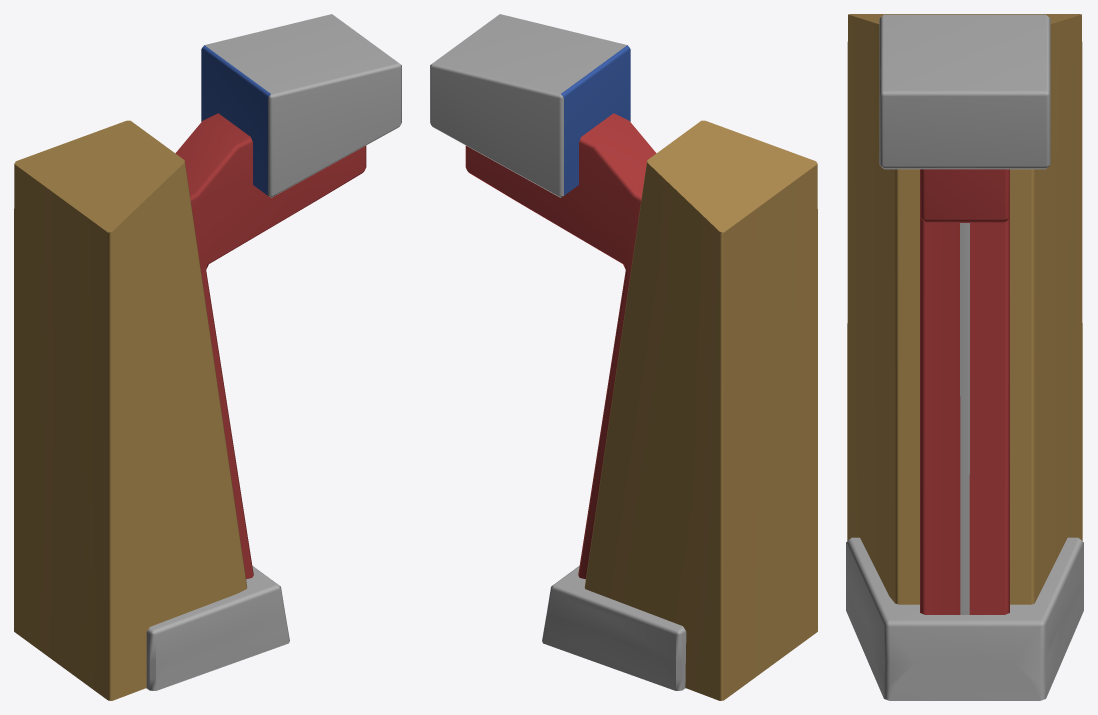
File: SM_Pillar_Bottom.fbx
The picture shows the model from 3 angles, left to right: view 1: azimuth 30°, elevation 25°; view 2: azimuth 150°, elevation 25°; view 3: azimuth 270°, elevation 25°; orthographic projection. The views are drawn at different scales.
Parts seen in each view (by area): view 1: SM_Pillar_Bottom; view 2: SM_Pillar_Bottom; view 3: SM_Pillar_Bottom.
Boxes of the visible parts, x1,y1,x2,y2 form: SM_Pillar_Bottom: (14,14,401,700); SM_Pillar_Bottom: (430,14,817,700); SM_Pillar_Bottom: (846,14,1083,700).
Bounding box in the file's own units: 529 × 918 × 292.
